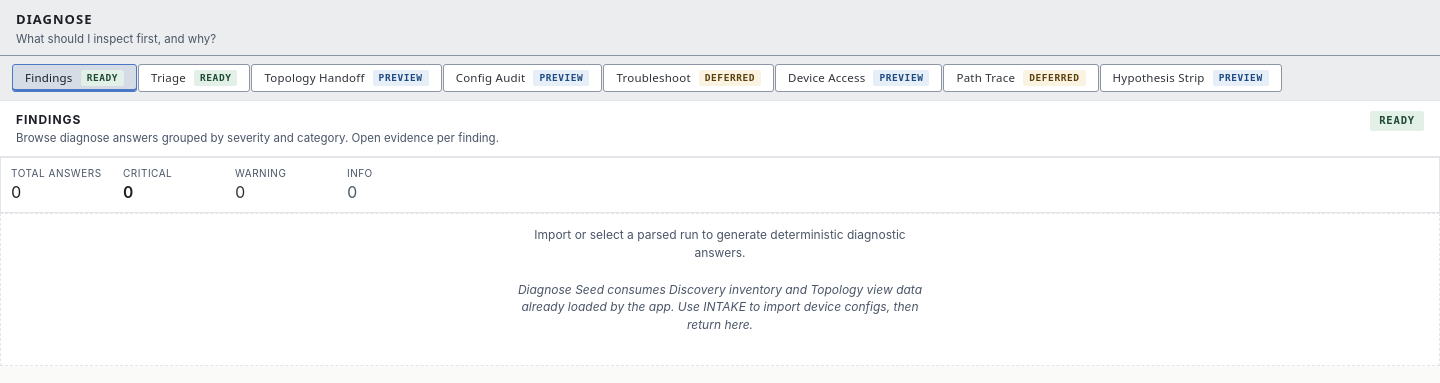
it: DiagnoseMode — ModeWorkbenchShell integration › clicking config_audit shows deferred state with planned inputs including Rule pack
Click the tab with test id "mwb-tool-config_audit" at {"x": 522, "y": 78}, box [443,64,602,92]
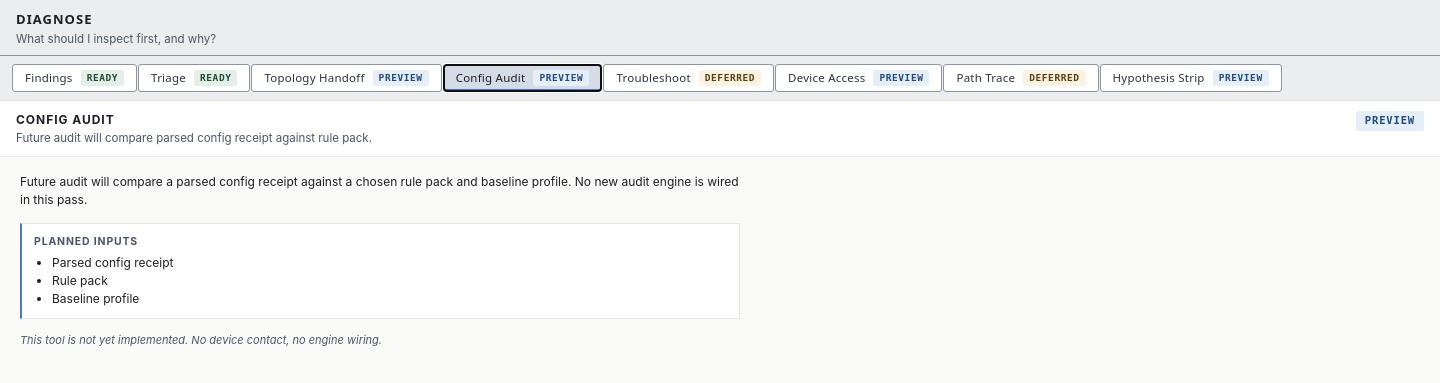
Now the element with test id "mwb-deferred-config_audit" is shown, box [0,157,760,365]
Now the list item "Rule pack" is shown, box [52,273,108,288]
